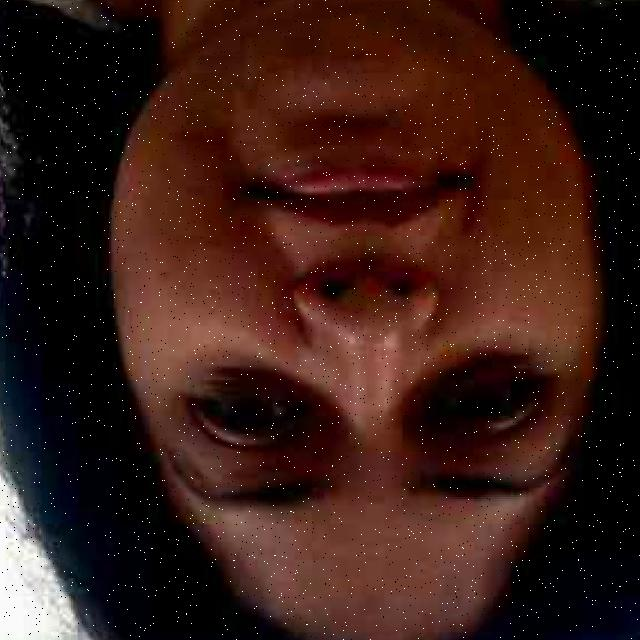puffy_eyes: (419, 352, 534, 416), (203, 365, 328, 407)
